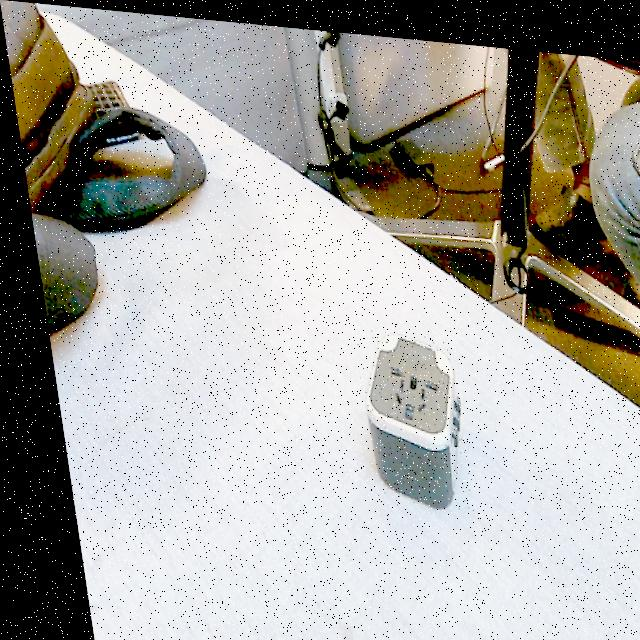adapter: (343, 321, 462, 505)
